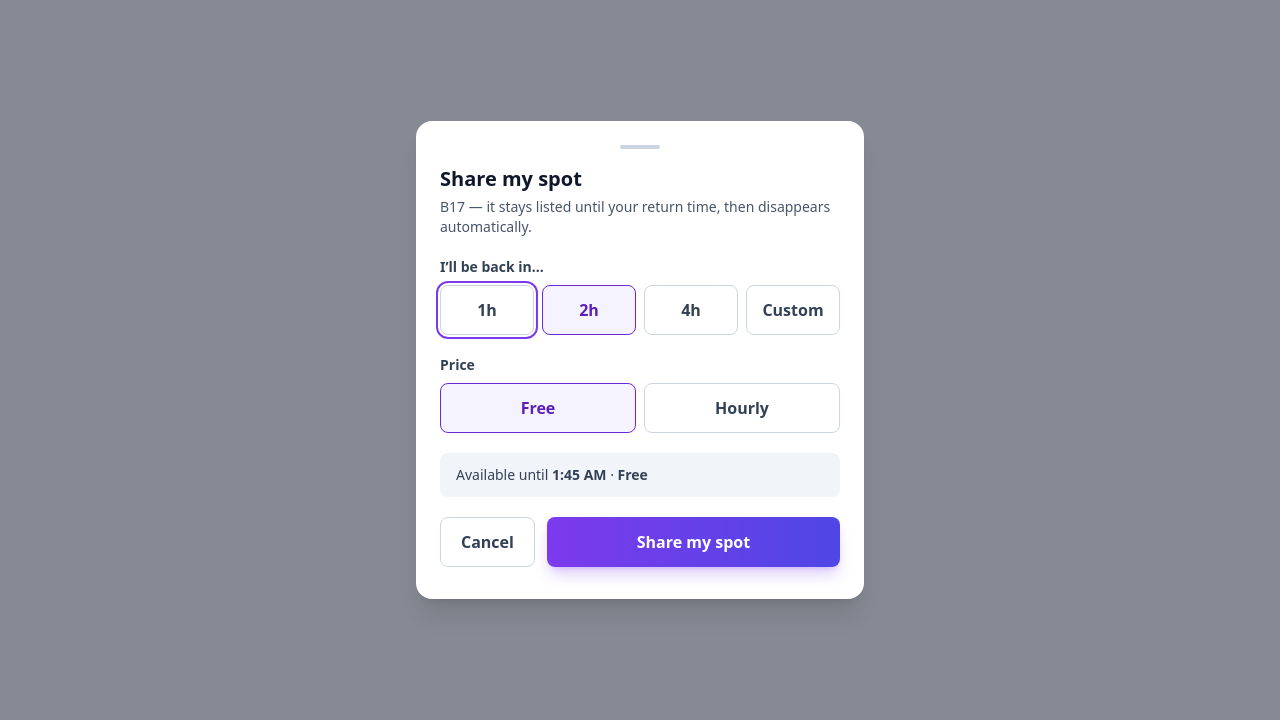
Test: ShareSheet › blocks a price over the $100 cap
Click the button "Hourly".
click(742, 408)  # box x1=644 y1=383 x2=840 y2=433
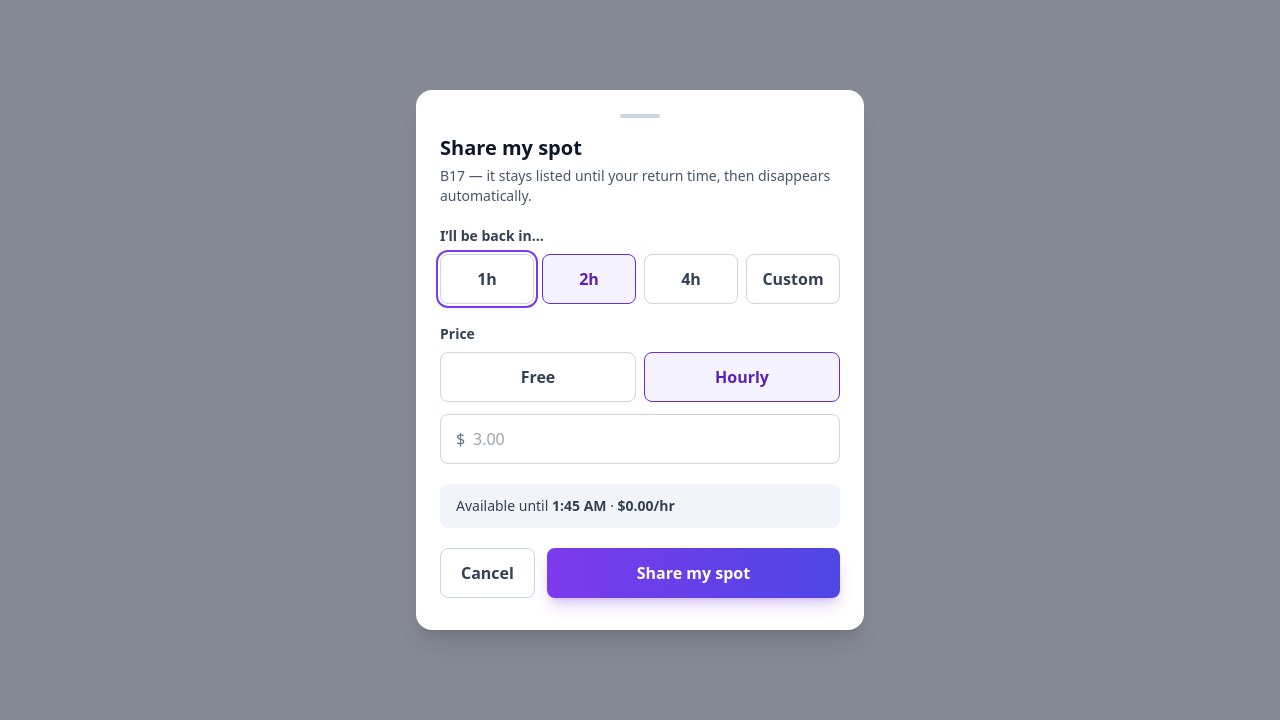
Type "150" into the number field named "Hourly price in dollars".
click(640, 439); type("150")  # box x1=440 y1=414 x2=840 y2=464
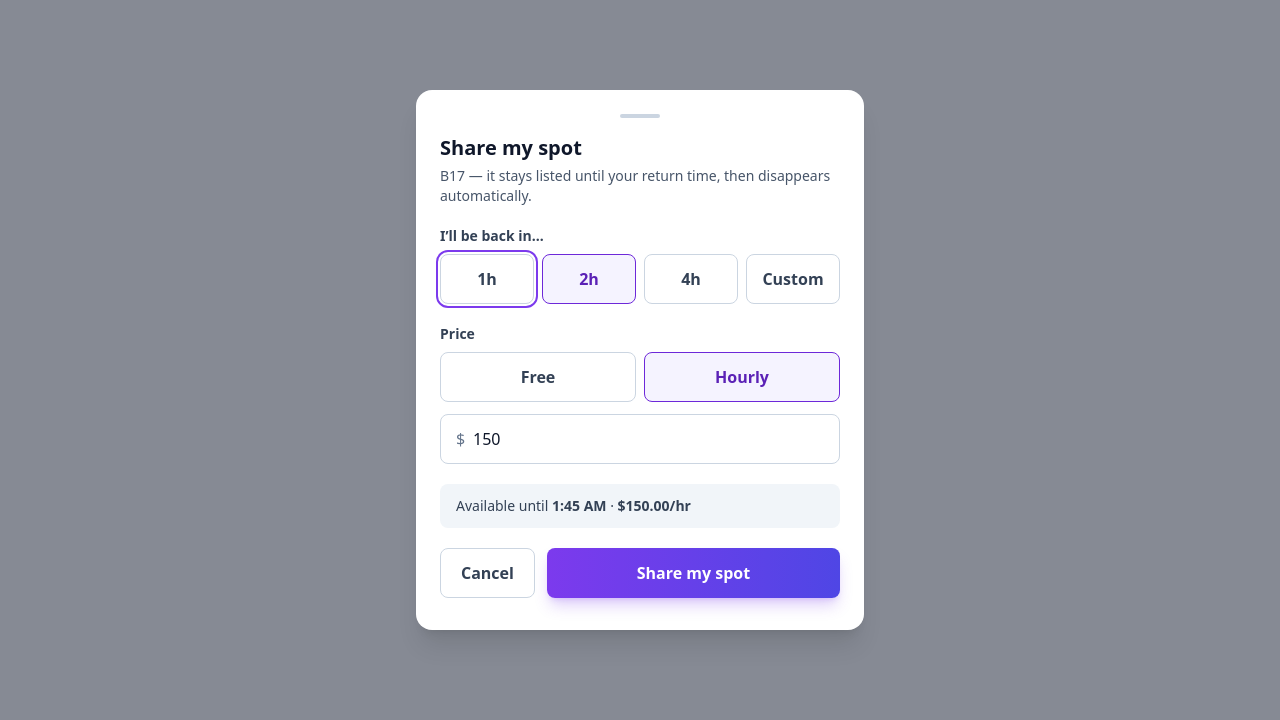
Click the button "Share my spot".
click(693, 573)  # box x1=547 y1=548 x2=840 y2=598
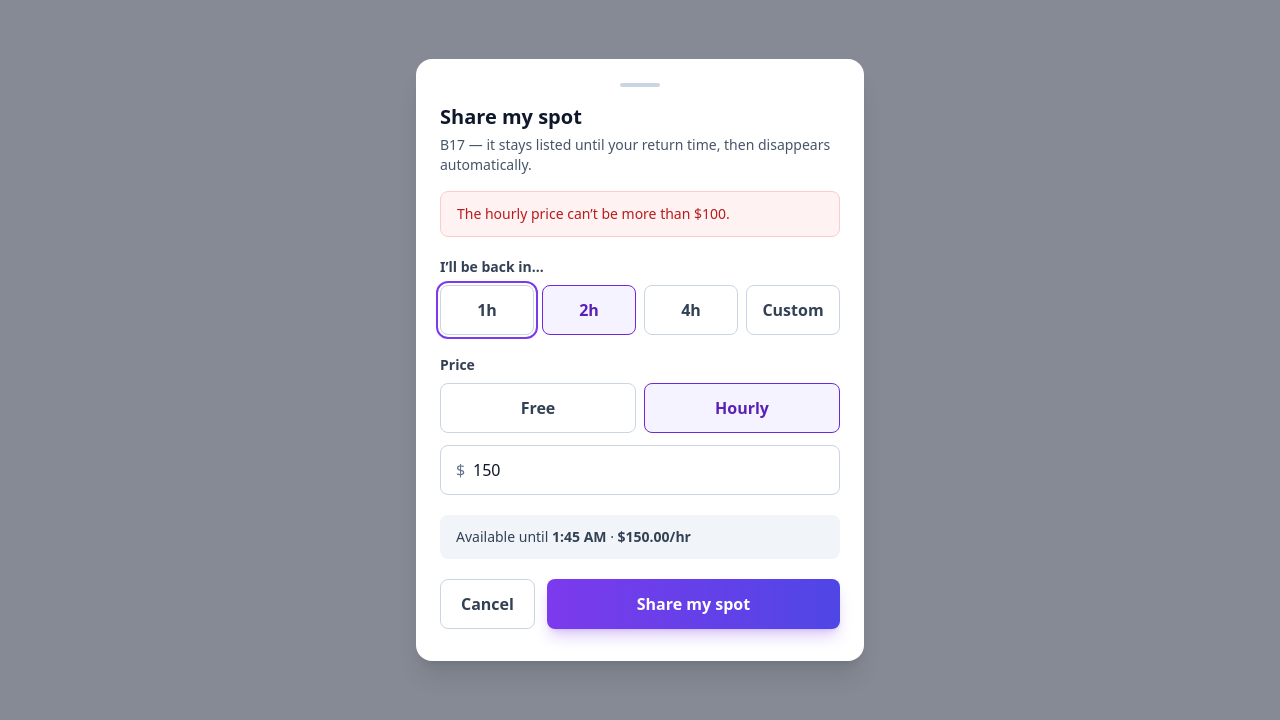
Result: the text "The hourly price can’t be more than $100." is shown at x1=440 y1=191 x2=840 y2=237
